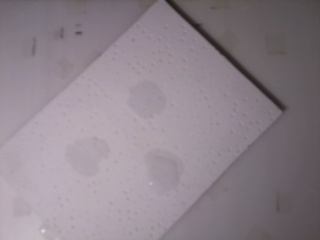Water_detected: (126, 80, 165, 115), (151, 151, 185, 188), (79, 144, 111, 168)
